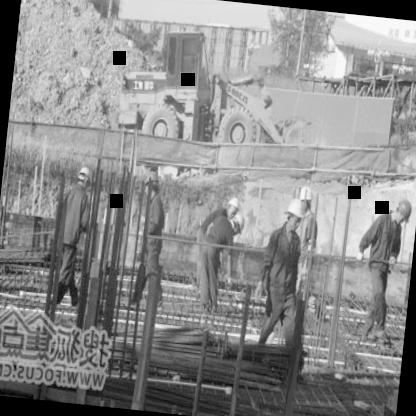helmet: (283, 198, 306, 233), (296, 185, 316, 216), (141, 168, 161, 199), (392, 198, 412, 226), (76, 162, 96, 188), (228, 212, 246, 236), (226, 196, 240, 218)
